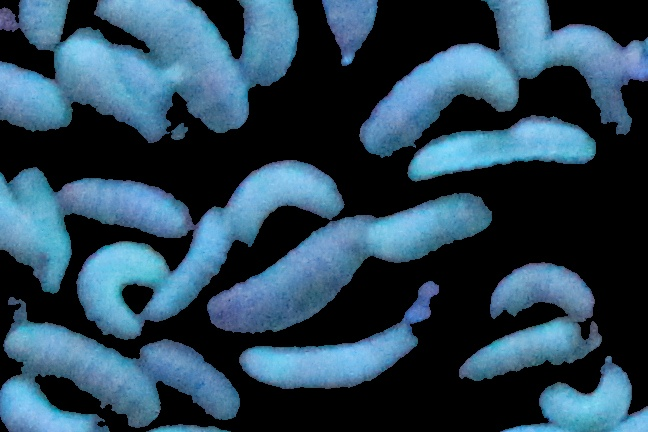larvae: (94, 1, 246, 125), (208, 216, 368, 333), (361, 43, 518, 154), (6, 322, 157, 431), (239, 325, 416, 390), (406, 120, 598, 179), (58, 34, 162, 139), (218, 160, 341, 244), (147, 206, 233, 324), (552, 25, 641, 132), (458, 319, 605, 379), (368, 192, 492, 262), (78, 242, 167, 339), (56, 179, 190, 242), (139, 340, 236, 420), (10, 168, 70, 289), (489, 258, 593, 320), (235, 1, 302, 89), (538, 363, 634, 424), (1, 376, 103, 432), (486, 1, 554, 75), (1, 178, 51, 276), (1, 62, 70, 132), (315, 1, 384, 63), (15, 1, 80, 49)
